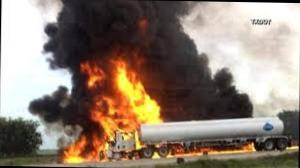Fire: (96, 64, 177, 156), (62, 134, 91, 160)
Smoke: (36, 0, 260, 118)
